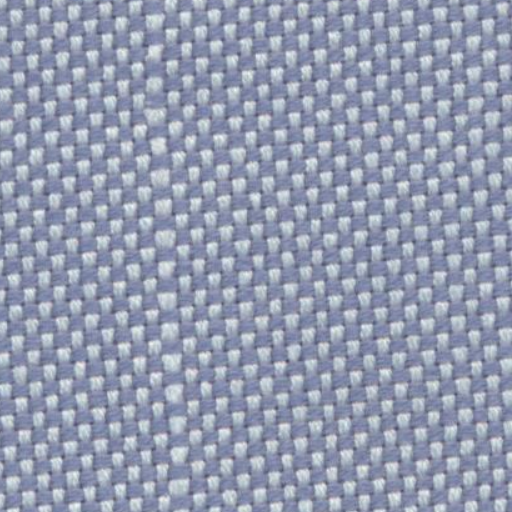TuoSha: (116, 12, 232, 503)
